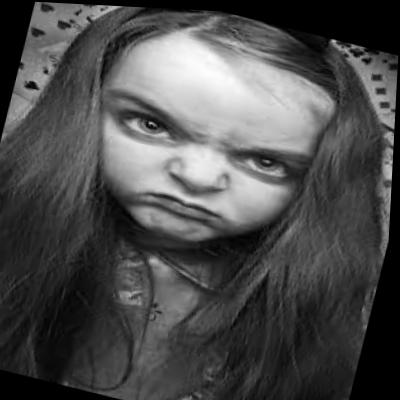angry: (67, 23, 345, 270)
